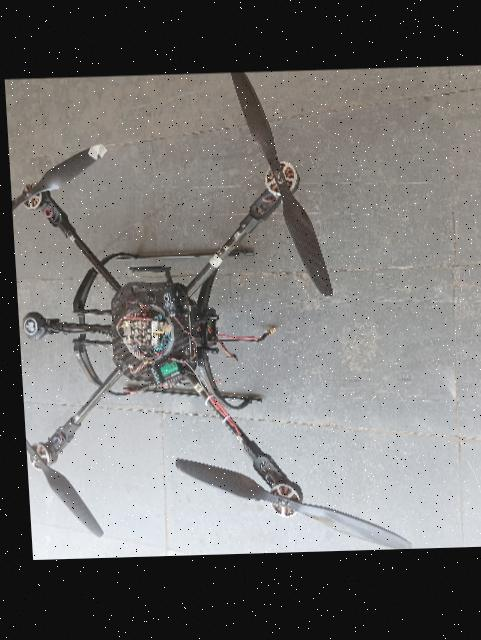drone: (4, 70, 421, 560)
